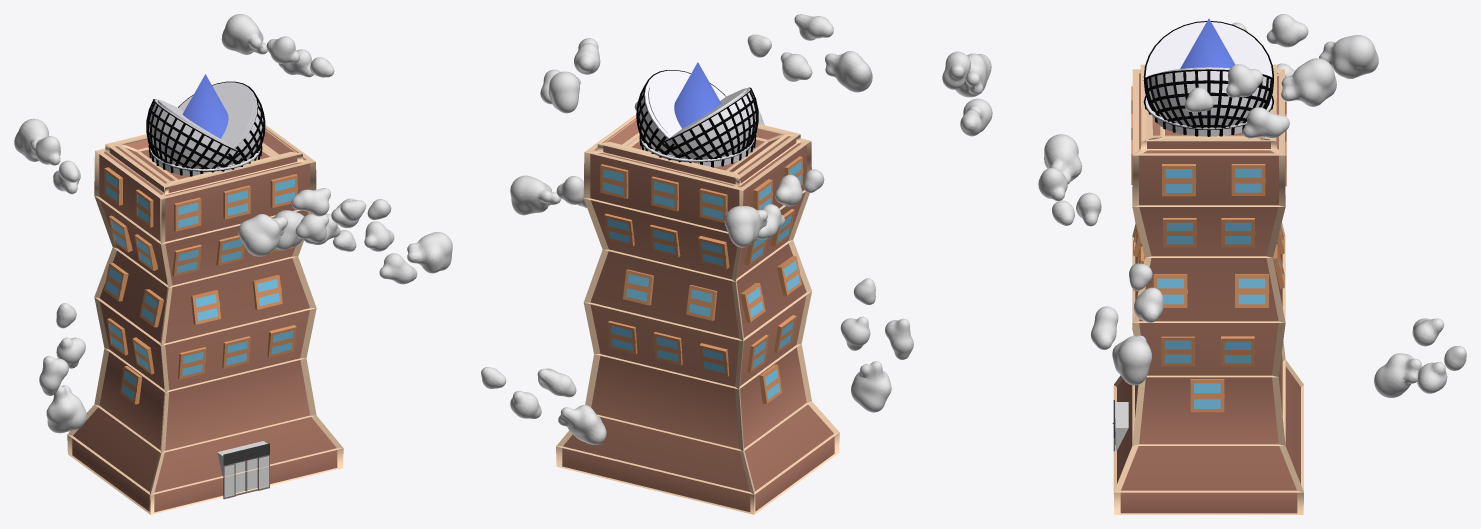
The picture shows the model from 3 angles, left to right: view 1: azimuth 30°, elevation 25°; view 2: azimuth 150°, elevation 25°; view 3: azimuth 270°, elevation 25°; orthographic projection. The views are drawn at different scales.
Parts seen in each view (by area): view 1: Cube, wireframebuilding, Mball.005, Spherehouse.001, Spherehouse, Mball.001, Mball.003, Mball.002, Mball.023, AUTOMATIC_SLIDING_DOOR_OBJ.001, Spherehouse.002, Mball.006 (+19 smaller); view 2: Cube, wireframebuilding, Spherehouse.001, Mball.003, Spherehouse, Mball.005, Mball.004, Mball.023, Mball.002, Mball.001, Spherehouse.002, conehouse (+16 smaller); view 3: Cube, wireframebuilding, Mball.002, Spherehouse.001, Spherehouse, Mball.001, Mball.004, Mball.006, Mball.023, Spherehouse.002, Mball.005, conehouse (+9 smaller).
Part boxes in pixels (bbox=[...]): Cube: bbox=[72, 128, 337, 512]; wireframebuilding: bbox=[67, 125, 343, 514]; Mball.005: bbox=[238, 188, 366, 256]; Spherehouse.001: bbox=[149, 82, 263, 176]; Spherehouse: bbox=[146, 81, 265, 176]; Mball.001: bbox=[333, 221, 452, 284]; Mball.003: bbox=[39, 303, 86, 433]; Mball.002: bbox=[221, 14, 334, 77]; Mball.023: bbox=[14, 118, 80, 194]; AUTOMATIC_SLIDING_DOOR_OBJ.001: bbox=[223, 443, 269, 499]; Spherehouse.002: bbox=[157, 83, 253, 167]; Mball.006: bbox=[274, 198, 391, 250]; Cube: bbox=[562, 118, 834, 511]; wireframebuilding: bbox=[556, 114, 839, 514]; Spherehouse.001: bbox=[638, 70, 755, 166]; Mball.003: bbox=[840, 278, 913, 412]; Spherehouse: bbox=[636, 70, 758, 167]; Mball.005: bbox=[747, 14, 872, 92]; Mball.004: bbox=[481, 367, 606, 444]; Mball.023: bbox=[724, 169, 824, 247]; Mball.002: bbox=[540, 38, 600, 113]; Mball.001: bbox=[510, 175, 586, 215]; Spherehouse.002: bbox=[648, 72, 746, 136]; conehouse: bbox=[674, 62, 721, 128]; Cube: bbox=[1117, 72, 1300, 513]; wireframebuilding: bbox=[1113, 64, 1303, 514]; Mball.002: bbox=[1184, 58, 1336, 138]; Spherehouse.001: bbox=[1145, 22, 1272, 136]; Spherehouse: bbox=[1143, 21, 1273, 136]; Mball.001: bbox=[1091, 263, 1163, 385]; Mball.004: bbox=[1374, 318, 1466, 397]; Mball.006: bbox=[1038, 134, 1101, 226]; Mball.023: bbox=[1231, 14, 1378, 78]; Spherehouse.002: bbox=[1150, 23, 1267, 75]; Mball.005: bbox=[942, 51, 992, 136]; conehouse: bbox=[1180, 18, 1234, 68].
Size of the model in its own units: 4274 by 4022 by 4244.
